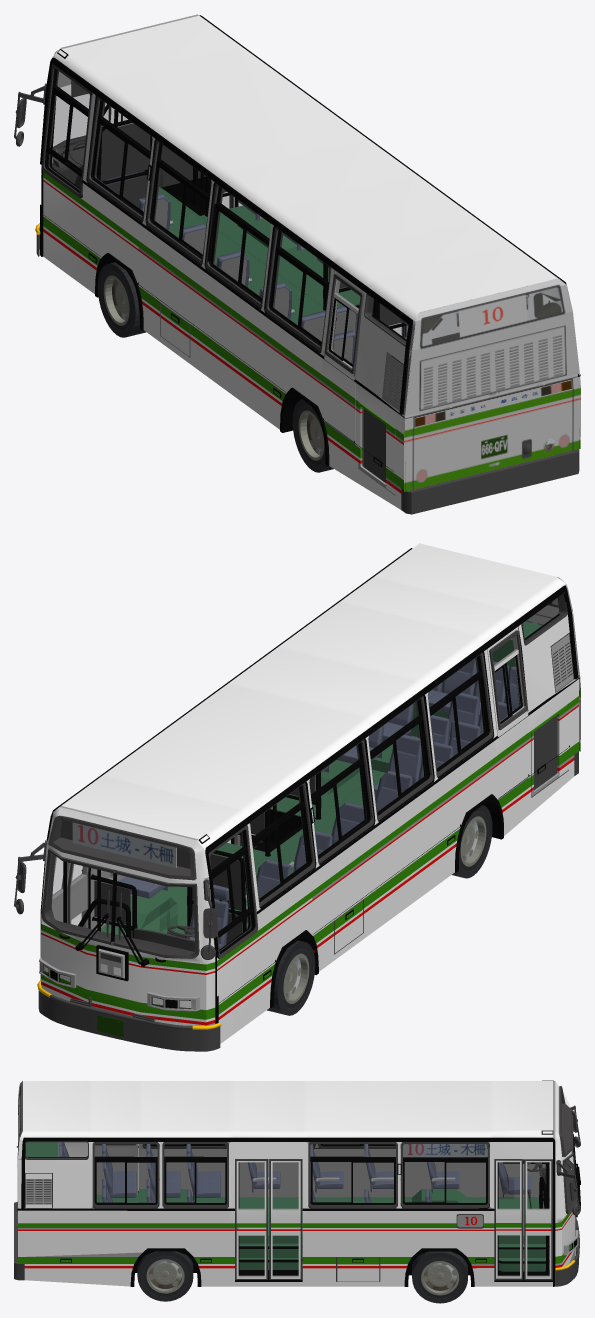
Rendered from BusWheel.fbx.
3 renders of one model, top to bottom at view 1: azimuth 30°, elevation 25°; view 2: azimuth 150°, elevation 25°; view 3: azimuth 270°, elevation 25°, orthographic. The views are drawn at different scales.
Visible parts, largest first — view 1: Bus, FrontL, BackL; view 2: Bus, FrontL, BackL; view 3: Bus, FrontR, BackR.
Boxes of the visible parts, x1,y1,x2,y2 form: Bus: (14,14,580,514); FrontL: (97,262,146,337); BackL: (292,399,333,472); Bus: (14,543,580,1051); FrontL: (267,940,315,1015); BackL: (452,805,492,878); Bus: (14,1080,580,1286); FrontR: (412,1251,467,1303); BackR: (137,1251,193,1301).
Bounding box in the file's own units: 3.06 × 3.28 × 10.12.
21 materials, 7 textured.
